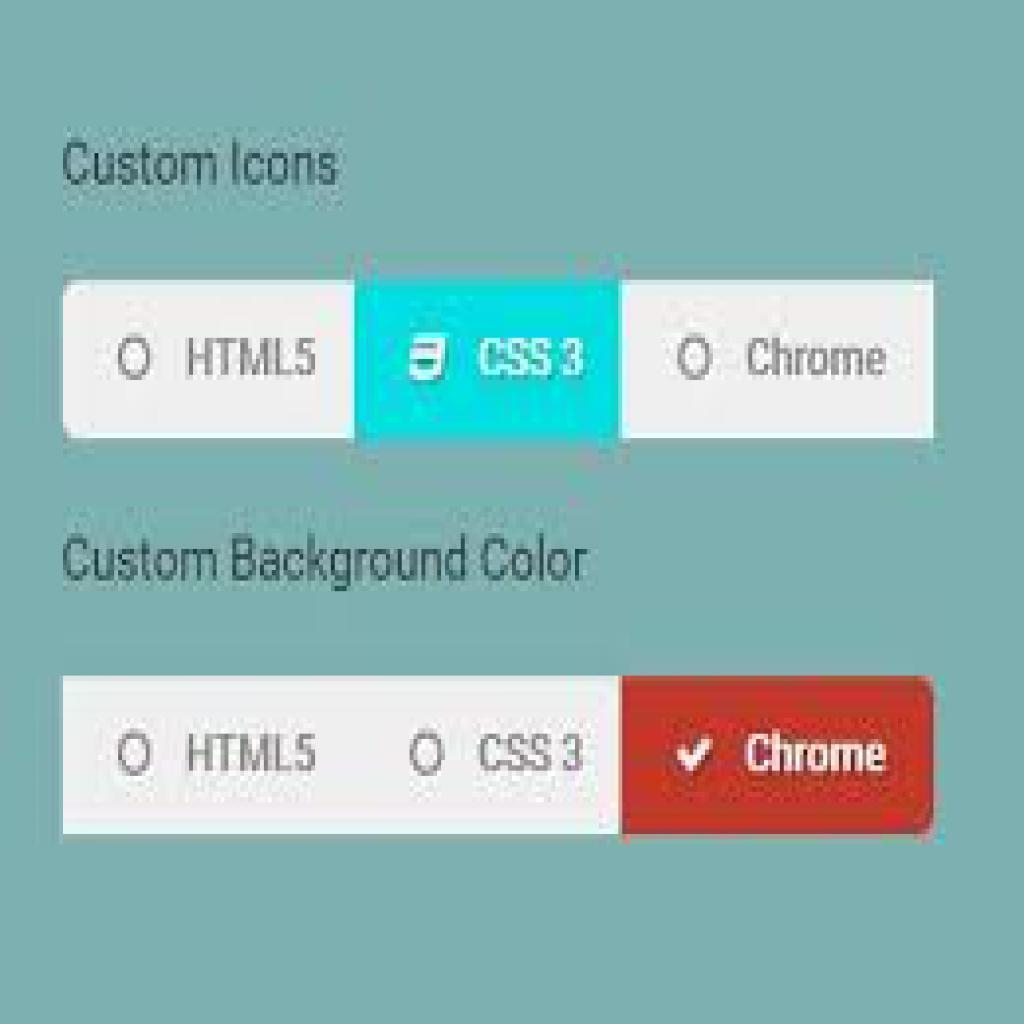radio: (405, 728, 447, 776), (675, 331, 713, 383), (120, 726, 156, 776), (115, 333, 153, 380)
